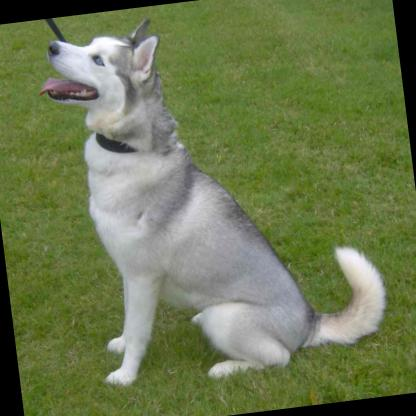Eskimo_dog: (32, 0, 390, 393)
